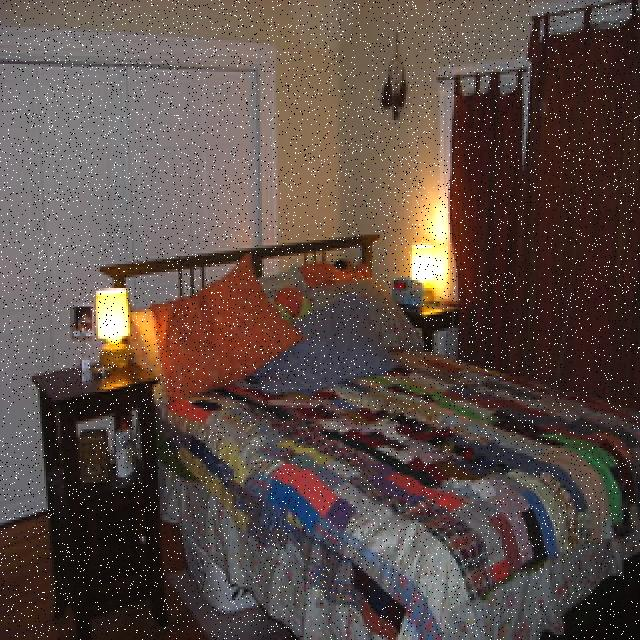bed: (132, 247, 640, 640)
